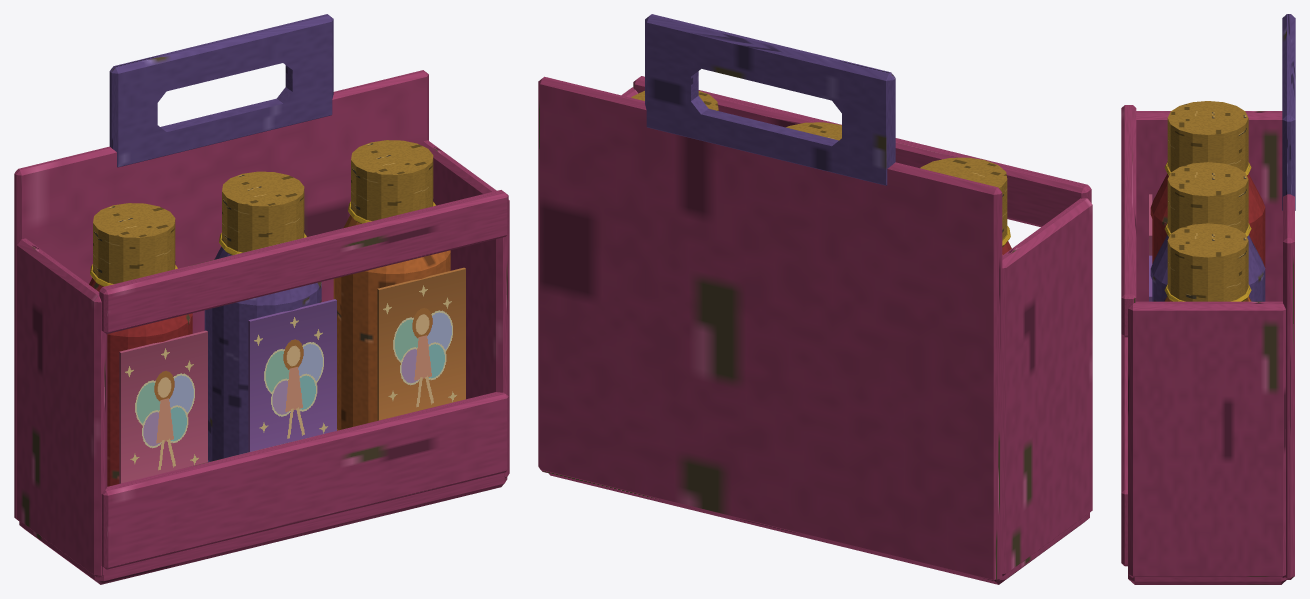
Rendered from bath_gift_set.obj.
3 renders of one model, left to right at view 1: azimuth 30°, elevation 25°; view 2: azimuth 150°, elevation 25°; view 3: azimuth 270°, elevation 25°, orthographic. The views are drawn at different scales.
Visible parts, largest first — view 1: bath_gift_set_MaterialGroup_00, bath_gift_set_MaterialGroup_01, bath_gift_set_MaterialGroup_03, bath_gift_set_MaterialGroup_05, bath_gift_set_MaterialGroup_08, bath_gift_set_MaterialGroup_06, bath_gift_set_MaterialGroup_07, bath_gift_set_MaterialGroup_02; view 2: bath_gift_set_MaterialGroup_00, bath_gift_set_MaterialGroup_01, bath_gift_set_MaterialGroup_03; view 3: bath_gift_set_MaterialGroup_00, bath_gift_set_MaterialGroup_03, bath_gift_set_MaterialGroup_01, bath_gift_set_MaterialGroup_02, bath_gift_set_MaterialGroup_04.
Part boxes in pixels (box(x1,y1,x2,y2)): bath_gift_set_MaterialGroup_00: box(14, 70, 509, 584); bath_gift_set_MaterialGroup_01: box(109, 14, 333, 462); bath_gift_set_MaterialGroup_03: box(93, 140, 433, 286); bath_gift_set_MaterialGroup_05: box(119, 330, 207, 483); bath_gift_set_MaterialGroup_08: box(377, 267, 465, 420); bath_gift_set_MaterialGroup_06: box(248, 299, 336, 452); bath_gift_set_MaterialGroup_07: box(333, 215, 450, 430); bath_gift_set_MaterialGroup_02: box(89, 278, 192, 486); bath_gift_set_MaterialGroup_00: box(538, 76, 1092, 584); bath_gift_set_MaterialGroup_01: box(645, 14, 895, 185); bath_gift_set_MaterialGroup_03: box(631, 91, 1007, 239); bath_gift_set_MaterialGroup_00: box(1121, 105, 1294, 584); bath_gift_set_MaterialGroup_03: box(1167, 101, 1248, 301); bath_gift_set_MaterialGroup_01: box(1150, 14, 1295, 301); bath_gift_set_MaterialGroup_02: box(1150, 174, 1265, 267); bath_gift_set_MaterialGroup_04: box(1164, 161, 1251, 301).
Bounding box in the file's own units: 0.277 × 0.2785 × 0.1035.
9 materials, 9 textured.
